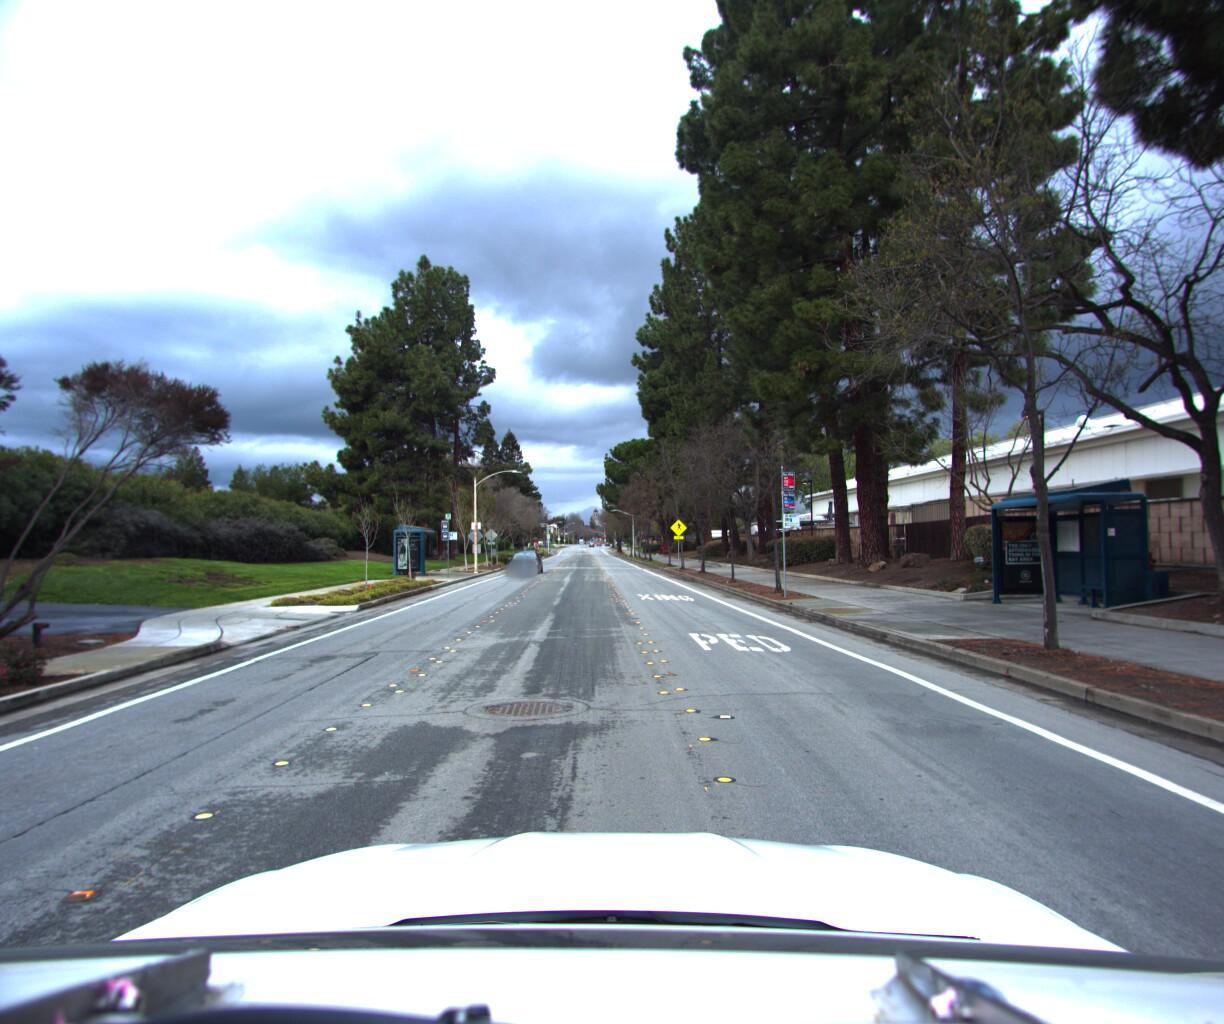car: (508, 543, 543, 573)
